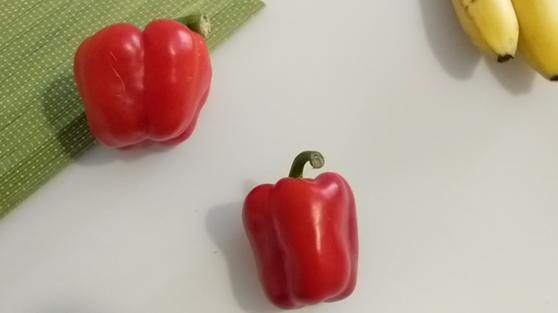pepper: (56, 10, 218, 150), (247, 140, 369, 311)
